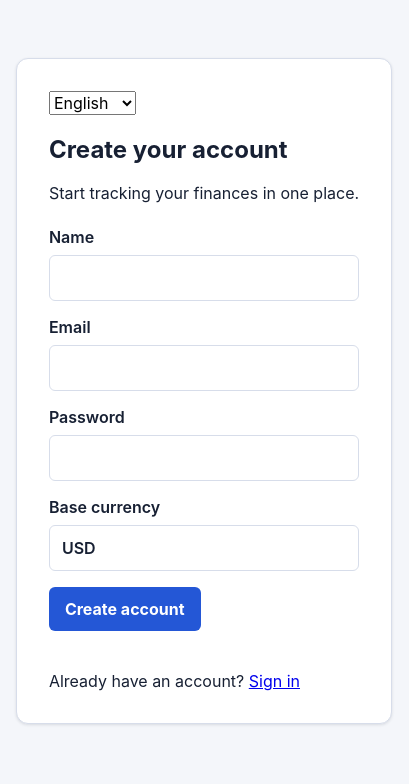
Test case: shows client validation errors before submitting registration details
The width and height of the screenshot is (409, 784).
Click the button "Create account": [125, 609] box [49,587,201,631]
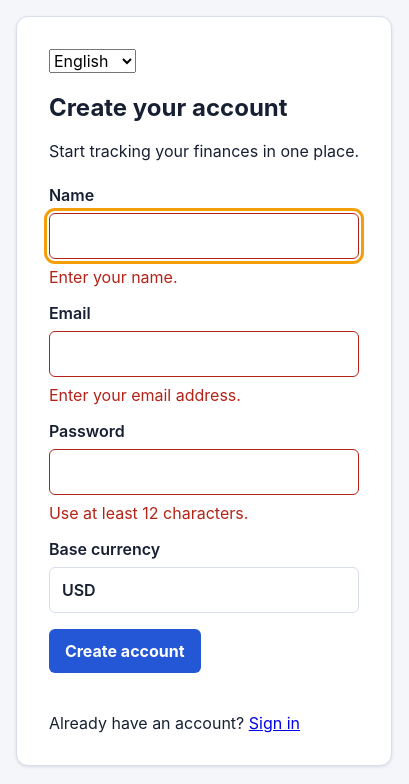
Expected: the text "Enter your name." is shown, [49,267,178,287]
Expected: the text "Enter your email address." is shown, [49,385,241,405]
Expected: the text "Use at least 12 characters." is shown, [49,503,248,523]
